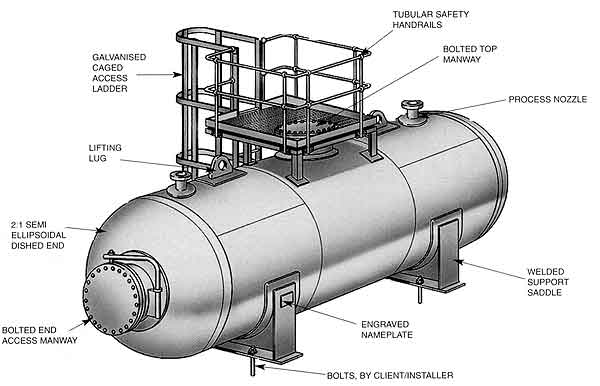nozzle: (166, 163, 200, 200), (401, 96, 426, 123)
